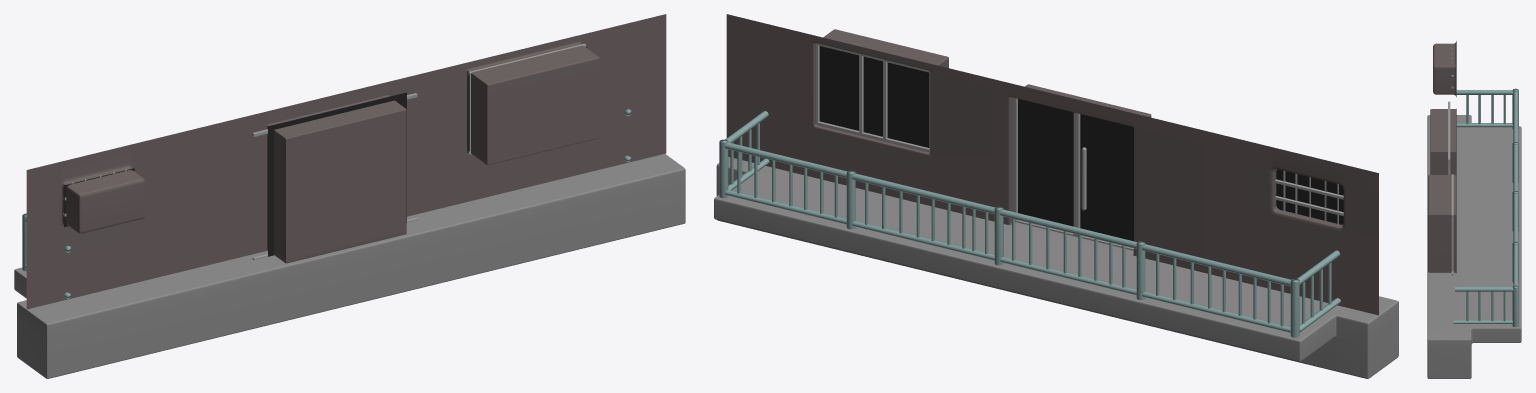
Rendered from EdenTerrace1.fbx.
The picture shows the model from 3 angles, left to right: view 1: azimuth 30°, elevation 25°; view 2: azimuth 150°, elevation 25°; view 3: azimuth 270°, elevation 25°; orthographic projection. The views are drawn at different scales.
Visible parts, largest first — view 1: pCylinder26; view 2: pCylinder26; view 3: pCylinder26.
Part boxes in pixels (<box>): pCylinder26: <box>14,14,685,378</box>; pCylinder26: <box>714,14,1398,378</box>; pCylinder26: <box>1427,41,1521,378</box>.
Size of the model in its own units: 12 by 3.5 by 2.13.
